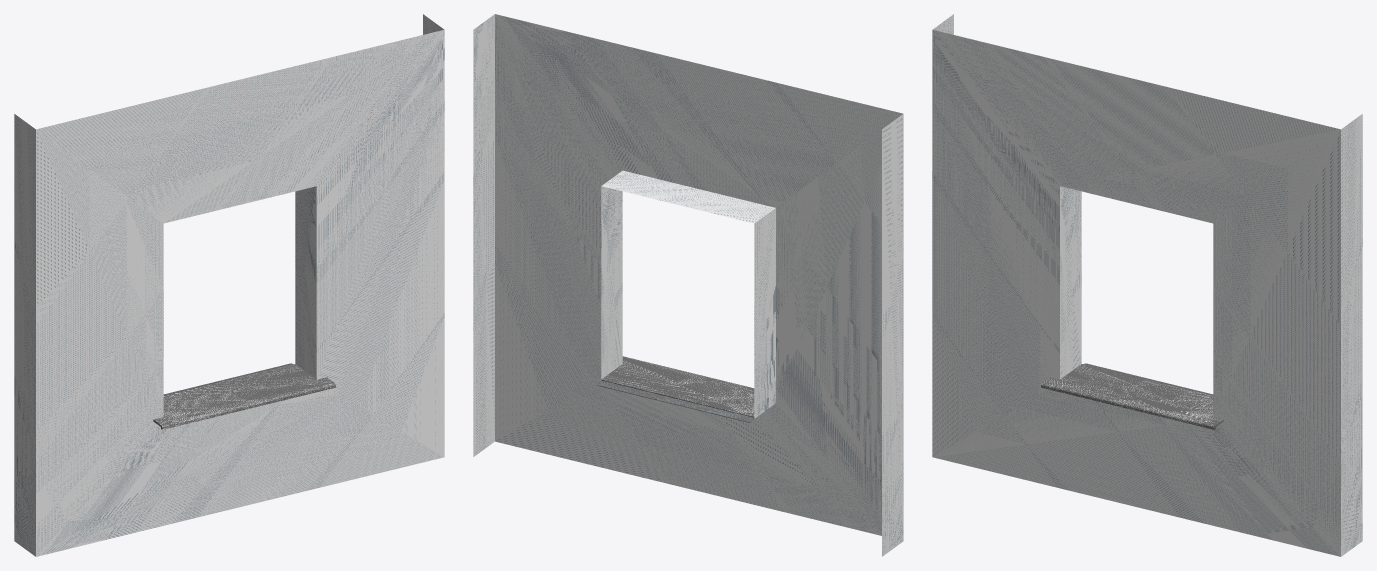
File: WindowBlock_os_[400x400]_150x181x[100].dae
3 renders of one model, left to right at view 1: azimuth 30°, elevation 25°; view 2: azimuth 150°, elevation 25°; view 3: azimuth 330°, elevation 25°, orthographic.
Parts seen in each view (by area): view 1: group_1 (×2), group_2; view 2: group_1 (×2), group_2 (×2); view 3: group_1 (×2), group_2.
Boxes of the visible parts, x1,y1,x2,y2 form: group_1 (×2): [14, 14, 444, 556]; group_2: [153, 364, 335, 429]; group_1 (×2): [473, 14, 903, 556]; group_2 (×2): [597, 356, 754, 422]; group_1 (×2): [932, 14, 1362, 556]; group_2: [1041, 364, 1222, 429].
Bounding box in the file's own units: 157 × 23.03 × 157.
